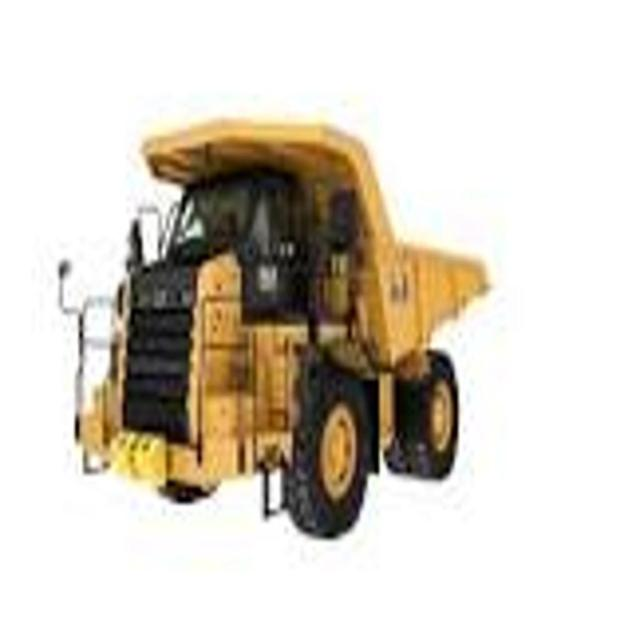dump_truck: (58, 110, 495, 538)
